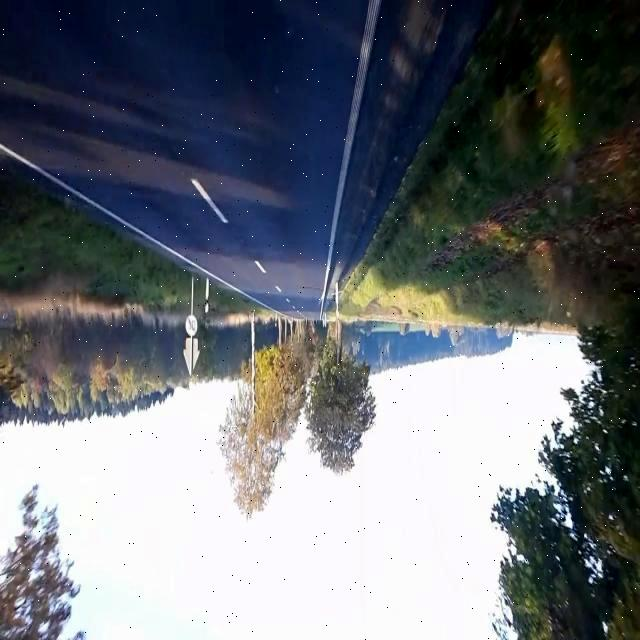lane: (1, 143, 285, 315), (321, 0, 381, 316), (191, 178, 229, 224)
road: (0, 1, 493, 317)
